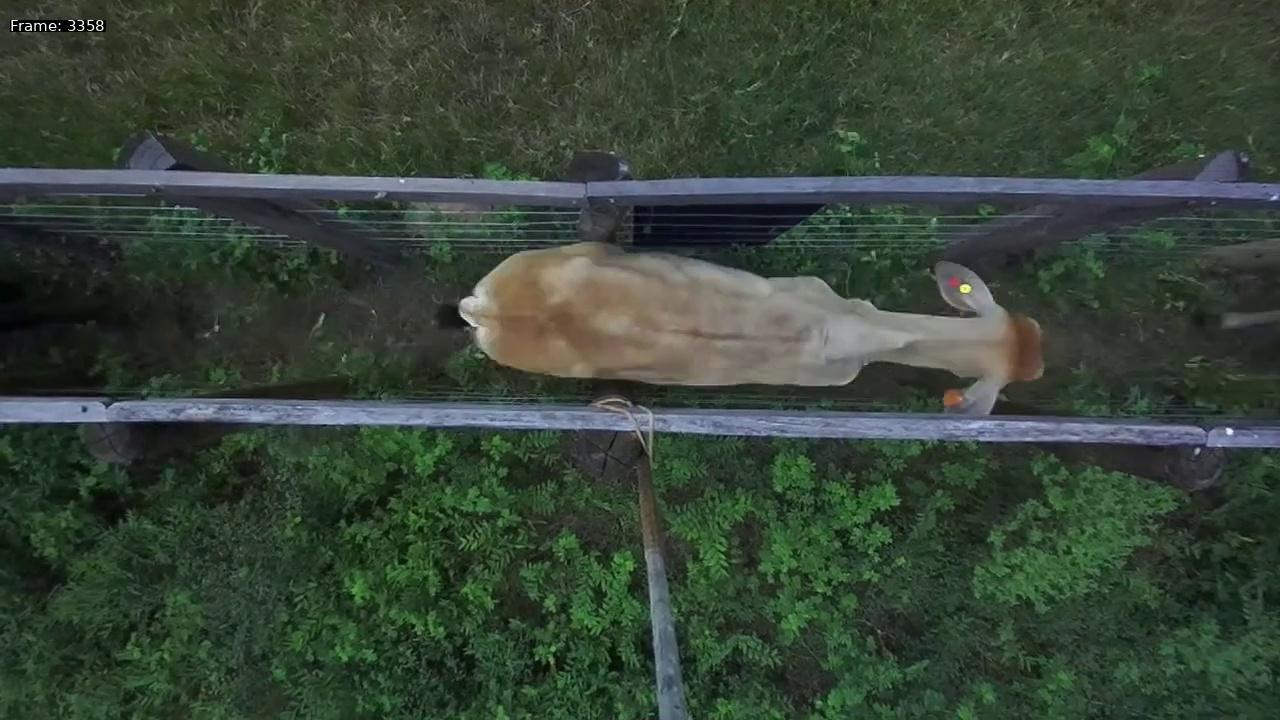cattle: (444, 210, 1053, 428)
